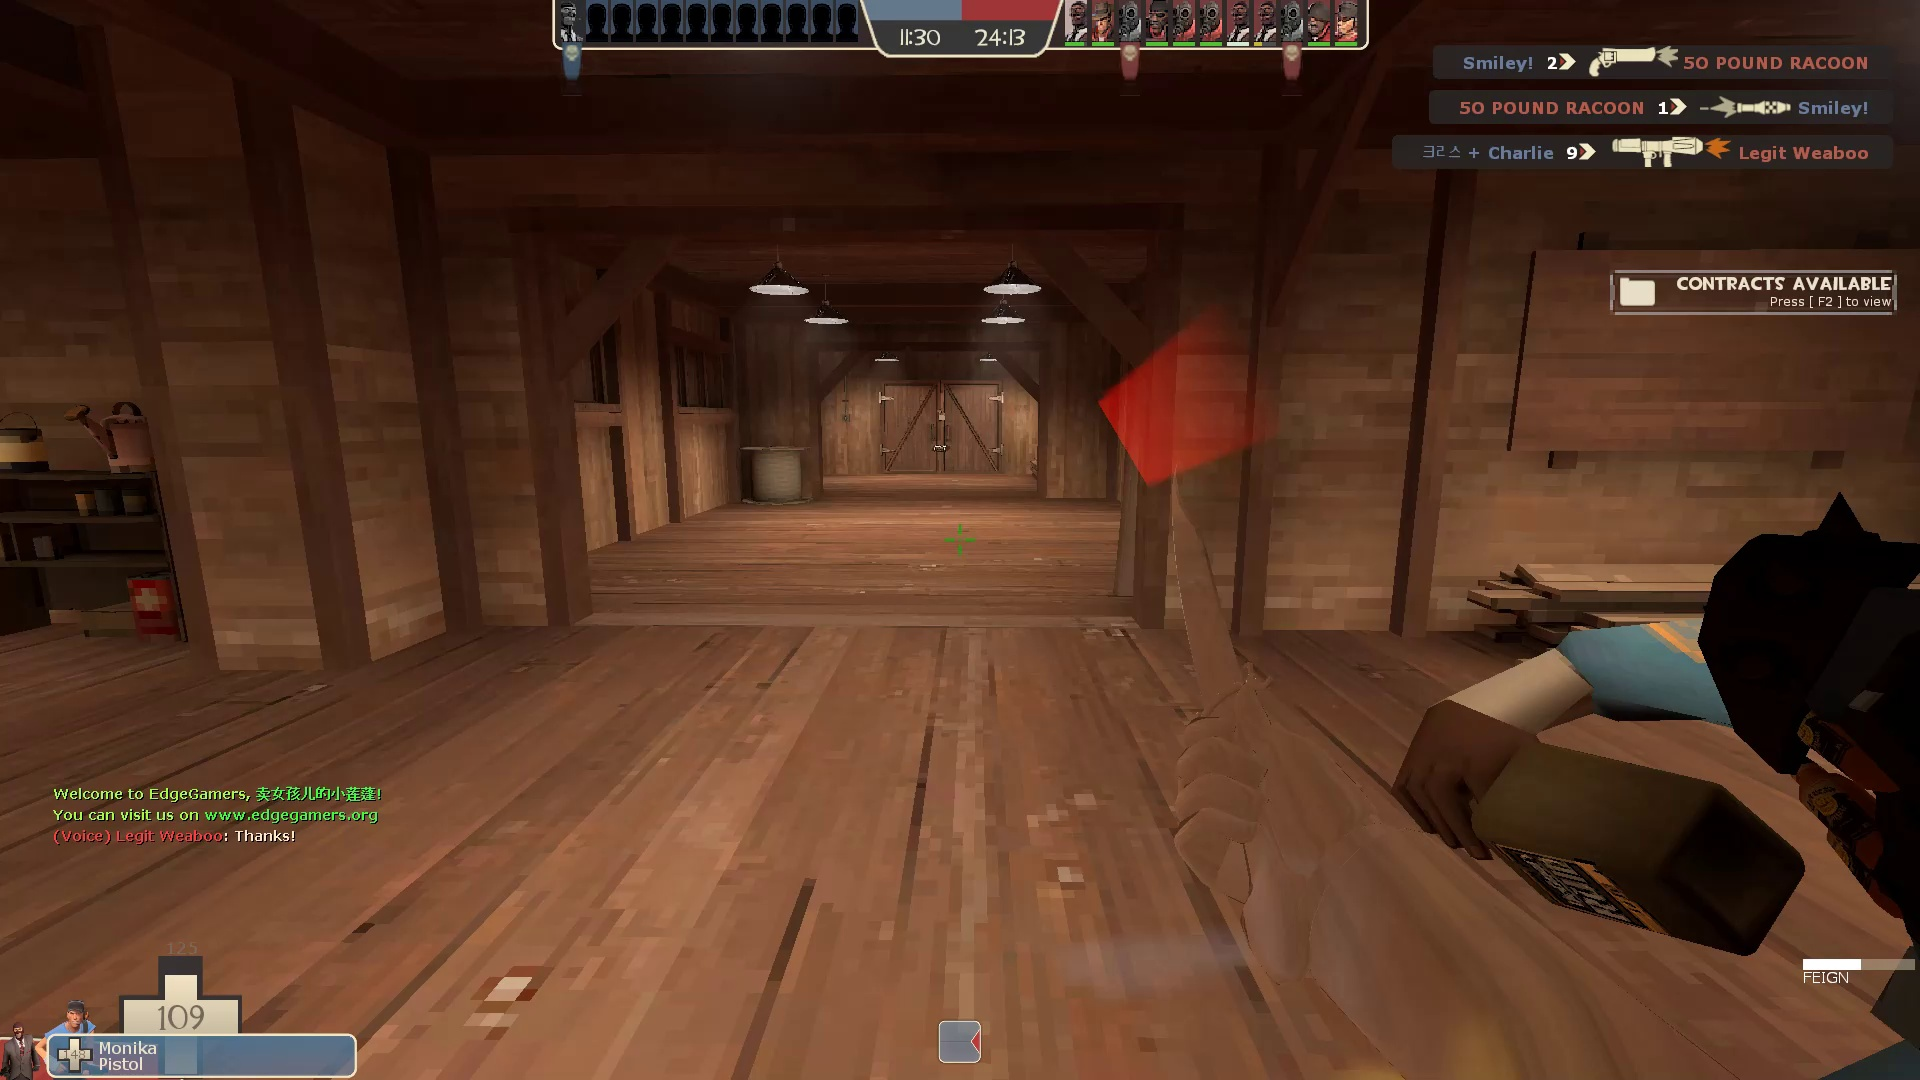blu_demo: (1366, 463, 1920, 1077)
